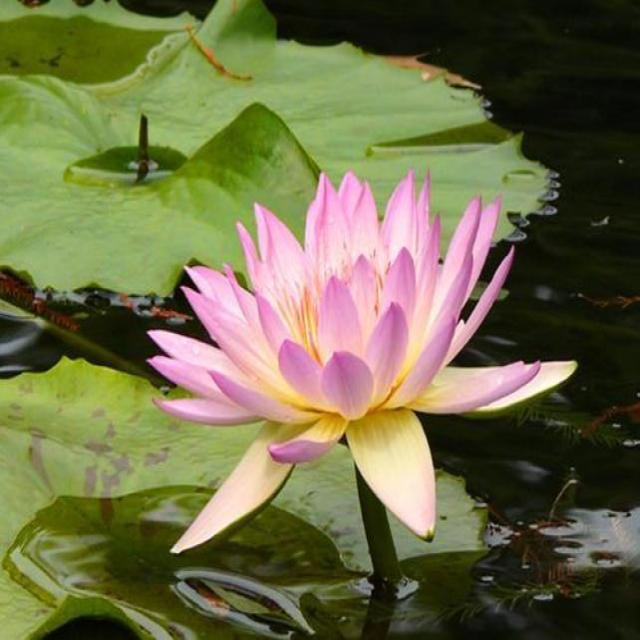water-lily: (114, 128, 620, 628)
